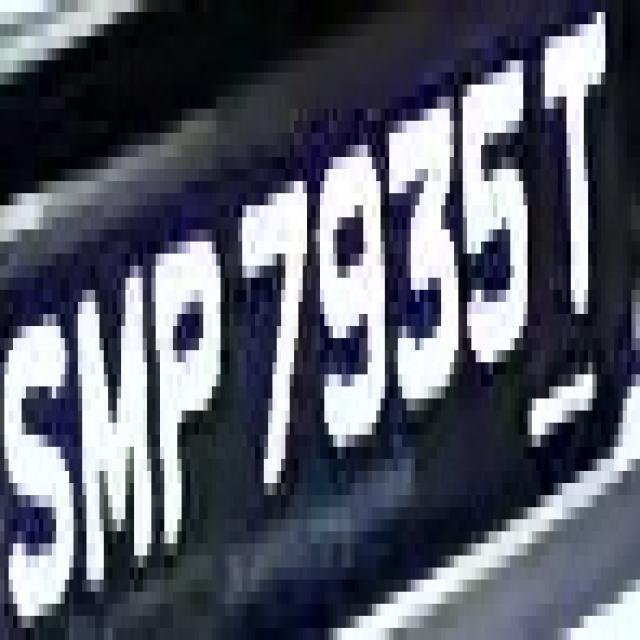3: (381, 72, 467, 435)
5: (458, 73, 532, 374)
7: (220, 157, 316, 531)
9: (303, 133, 389, 471)
M: (65, 242, 160, 580)
P: (138, 242, 238, 568)
S: (4, 278, 82, 628)
T: (528, 24, 618, 350)
